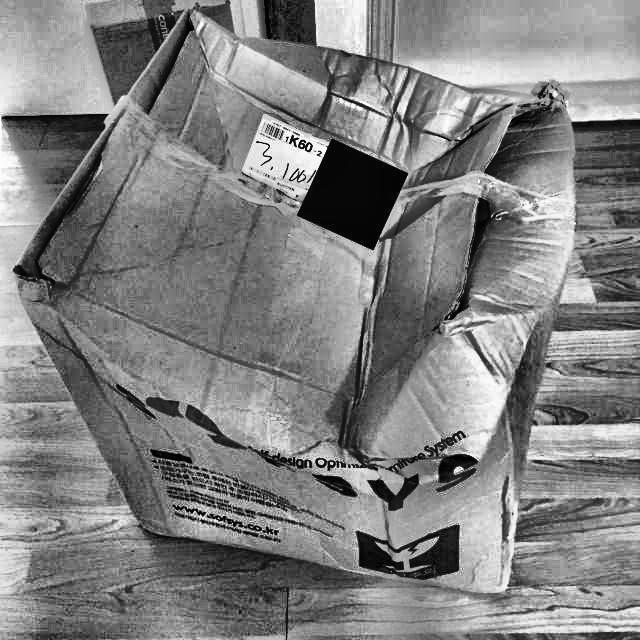box: (5, 2, 584, 612)
hole: (438, 195, 497, 335)
